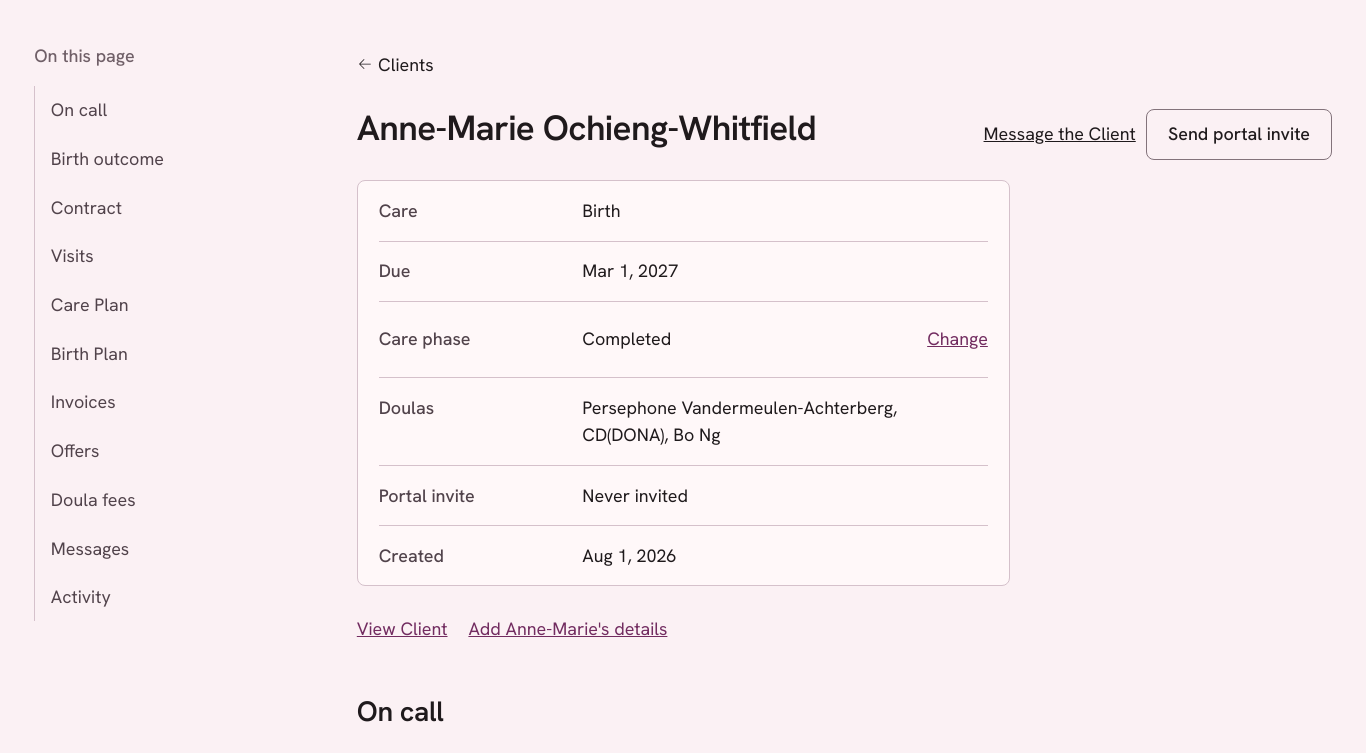
Scenario: the status-move controls (#253) › moves status directly for a move that is not completing, and reflects it without a reload
Click the button "Change" at (958, 339), box [927,317,988,361]
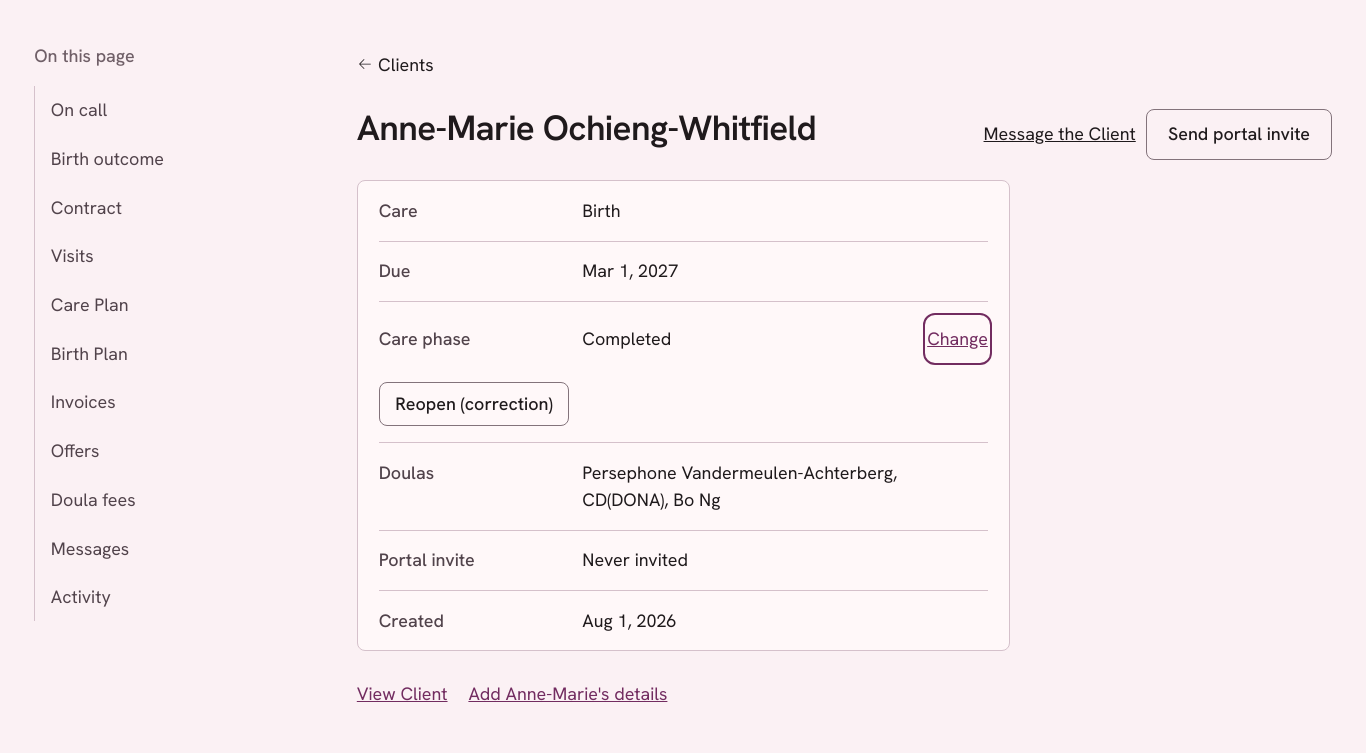
Click the button "Reopen (correction)" at (474, 404), box [379,382,570,426]
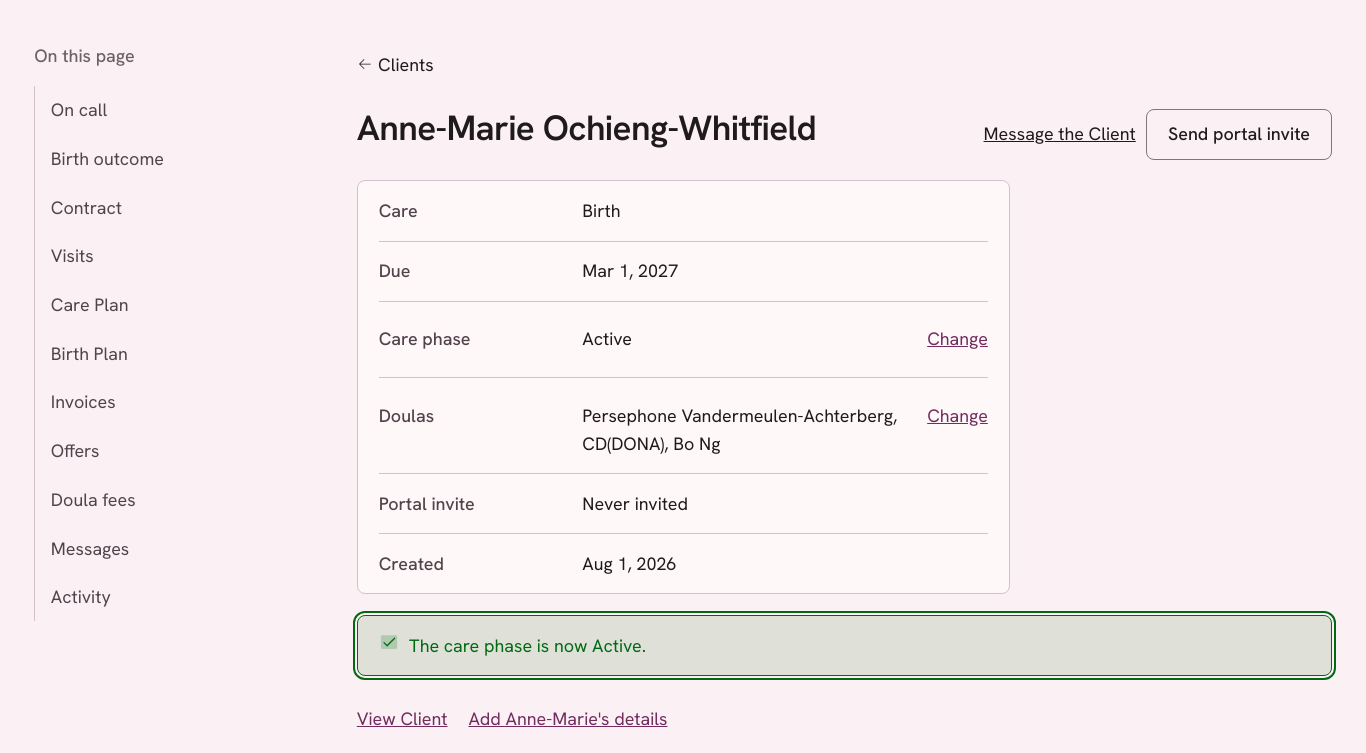
Expected: the text "Active" is shown, [582,328,632,350]
